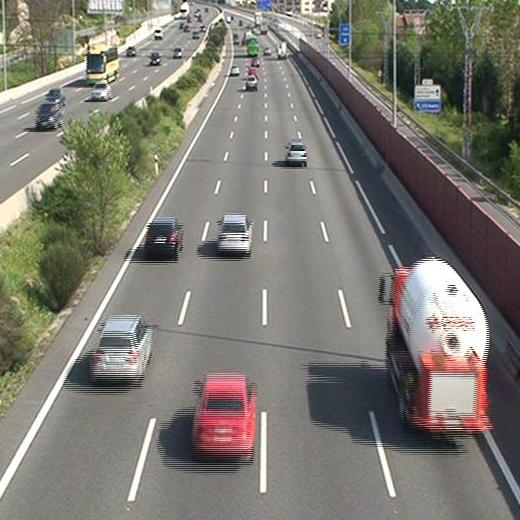car: (192, 374, 255, 456), (92, 316, 153, 378), (146, 220, 182, 257), (218, 215, 252, 253), (287, 141, 308, 163), (246, 75, 258, 91), (229, 65, 241, 74), (247, 66, 256, 74)
tank-truck: (384, 259, 492, 433)
